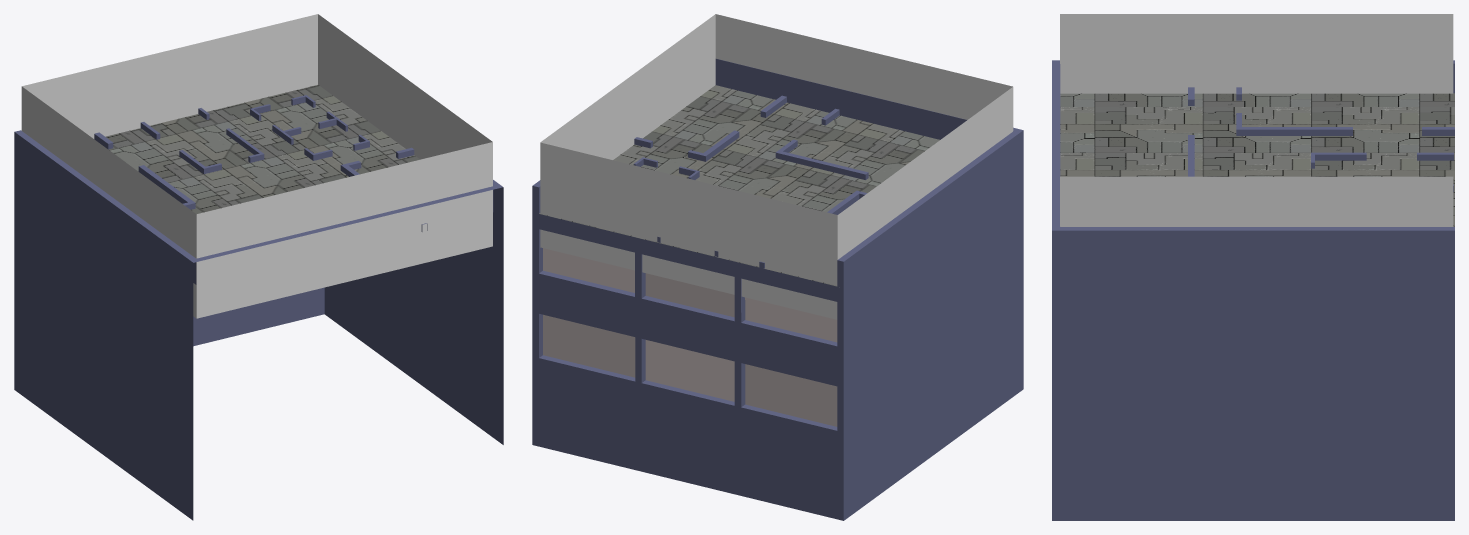
The model's file is IOD_Escenario_Spy&Run.fbx.
3 views of the same model, side by side, from view 1: azimuth 30°, elevation 25°; view 2: azimuth 150°, elevation 25°; view 3: azimuth 270°, elevation 25° (orthographic). The views are drawn at different scales.
Visible parts, largest first — view 1: Escenario, Collideer_Escenario, Salas; view 2: Escenario, Collideer_Escenario, Salas; view 3: Escenario, Collideer_Escenario, Salas.
Boxes of the visible parts, x1,y1,x2,y2 form: Escenario: (14, 85, 503, 520); Collideer_Escenario: (21, 14, 492, 318); Salas: (94, 95, 427, 231); Escenario: (532, 58, 1023, 520); Collideer_Escenario: (540, 14, 1013, 319); Salas: (633, 95, 868, 268); Escenario: (1052, 60, 1454, 520); Collideer_Escenario: (1060, 14, 1453, 226); Salas: (1188, 87, 1454, 191).
Size of what is drawn, in the model's own units: 4183 by 3899 by 4183.
